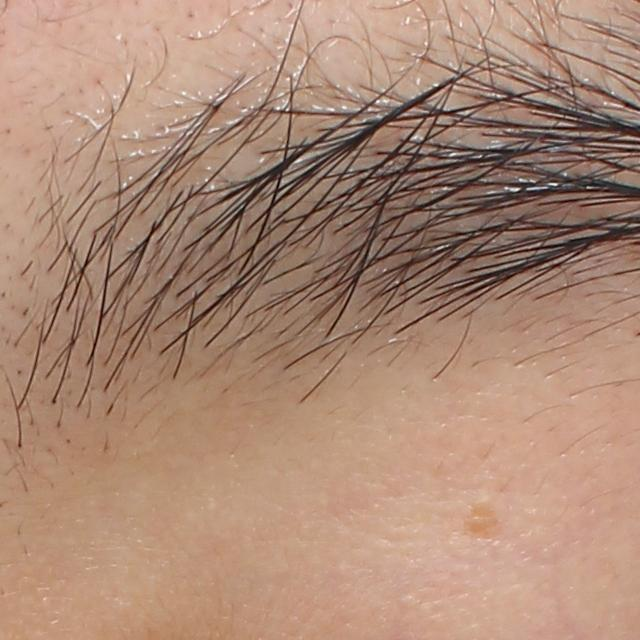melasma: (460, 498, 512, 546)
